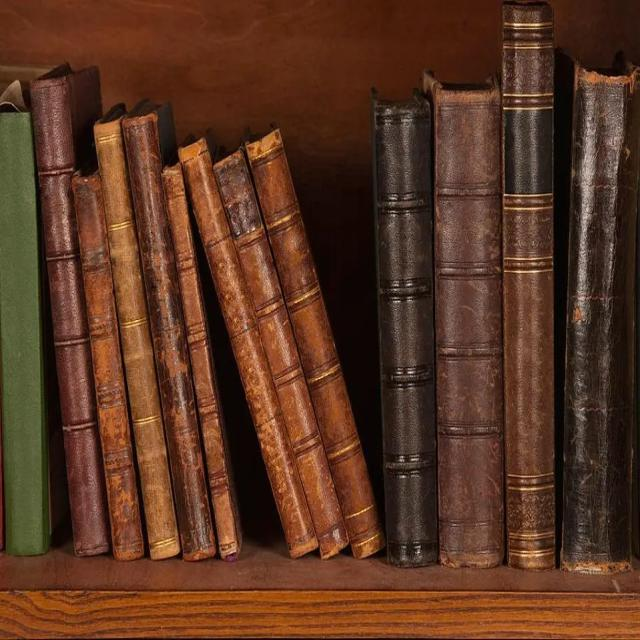Books: (246, 129, 385, 559), (179, 139, 318, 559), (214, 151, 348, 559), (122, 112, 215, 560), (561, 65, 640, 572), (425, 75, 504, 567), (31, 65, 109, 557), (96, 121, 179, 559), (162, 163, 241, 559), (372, 93, 438, 567), (502, 2, 556, 571), (71, 173, 144, 560), (0, 112, 51, 555)
